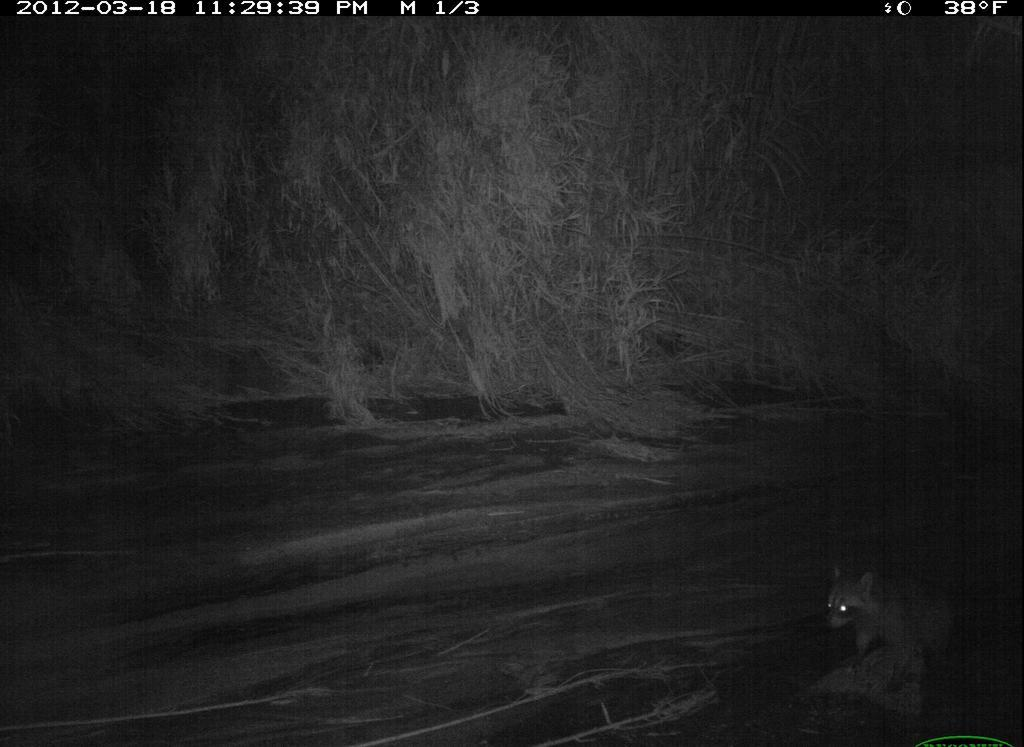raccoon: (807, 551, 976, 710)
